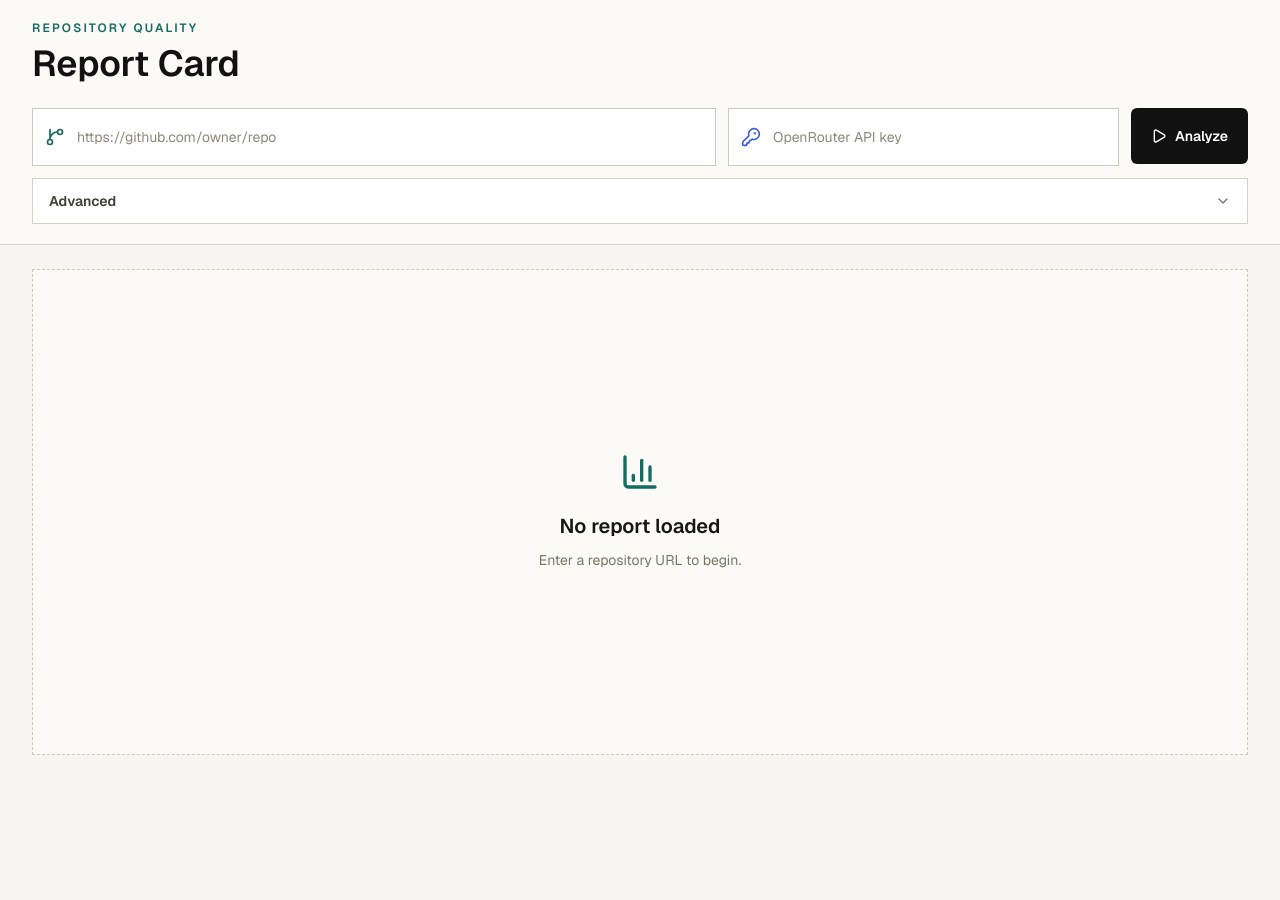
AnalyzeRepositoryPanel › submits the red-style request and persists the URL and model without the API key
The width and height of the screenshot is (1280, 900).
Type "https://github.com/lightstrikelabs/repo-analyzer-green" into the field named "GitHub repository URL" at [390, 137], box [77,117,703,157]
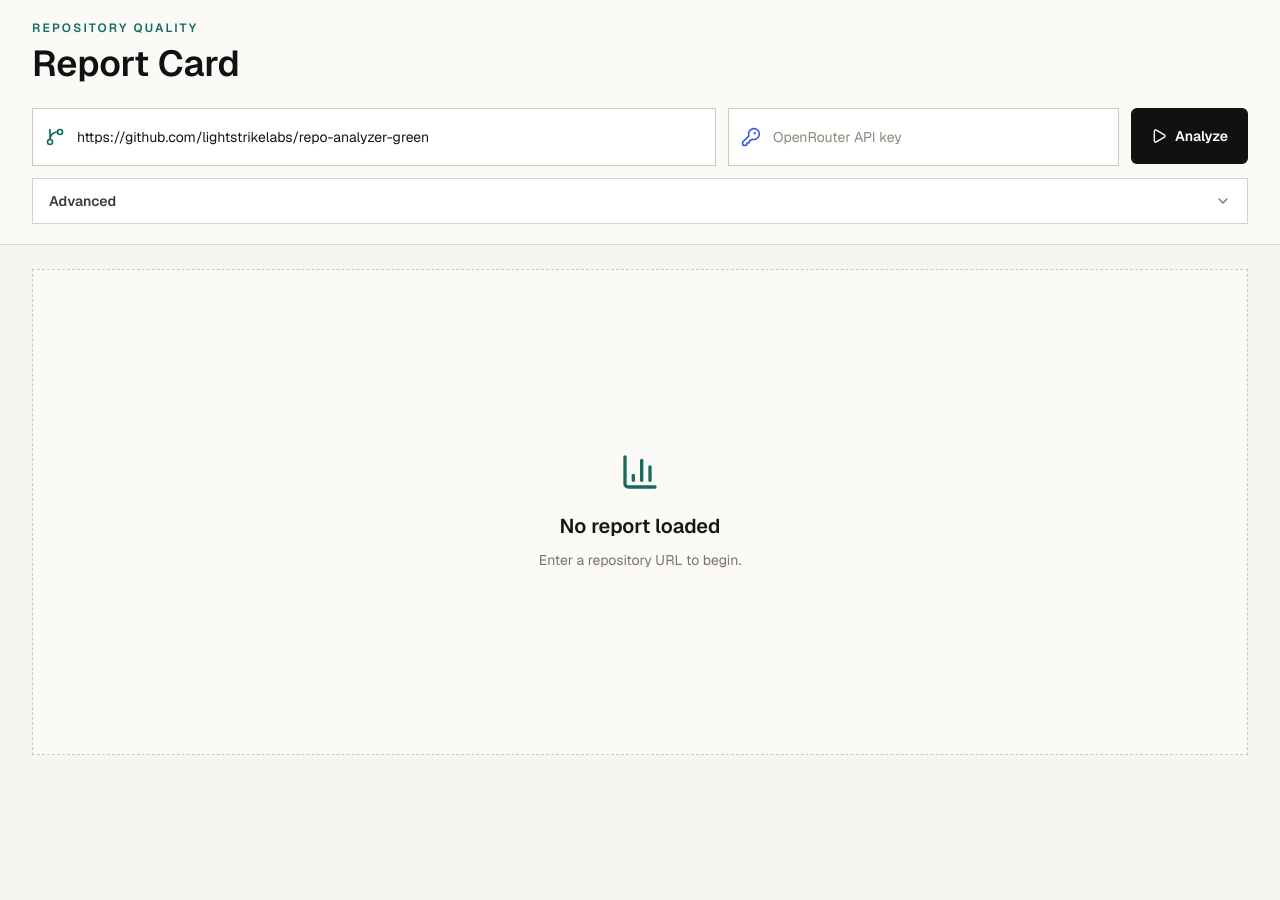
Type "sk-test" into the password field labelled "OpenRouter API key" at [940, 137], box [773,117,1106,157]
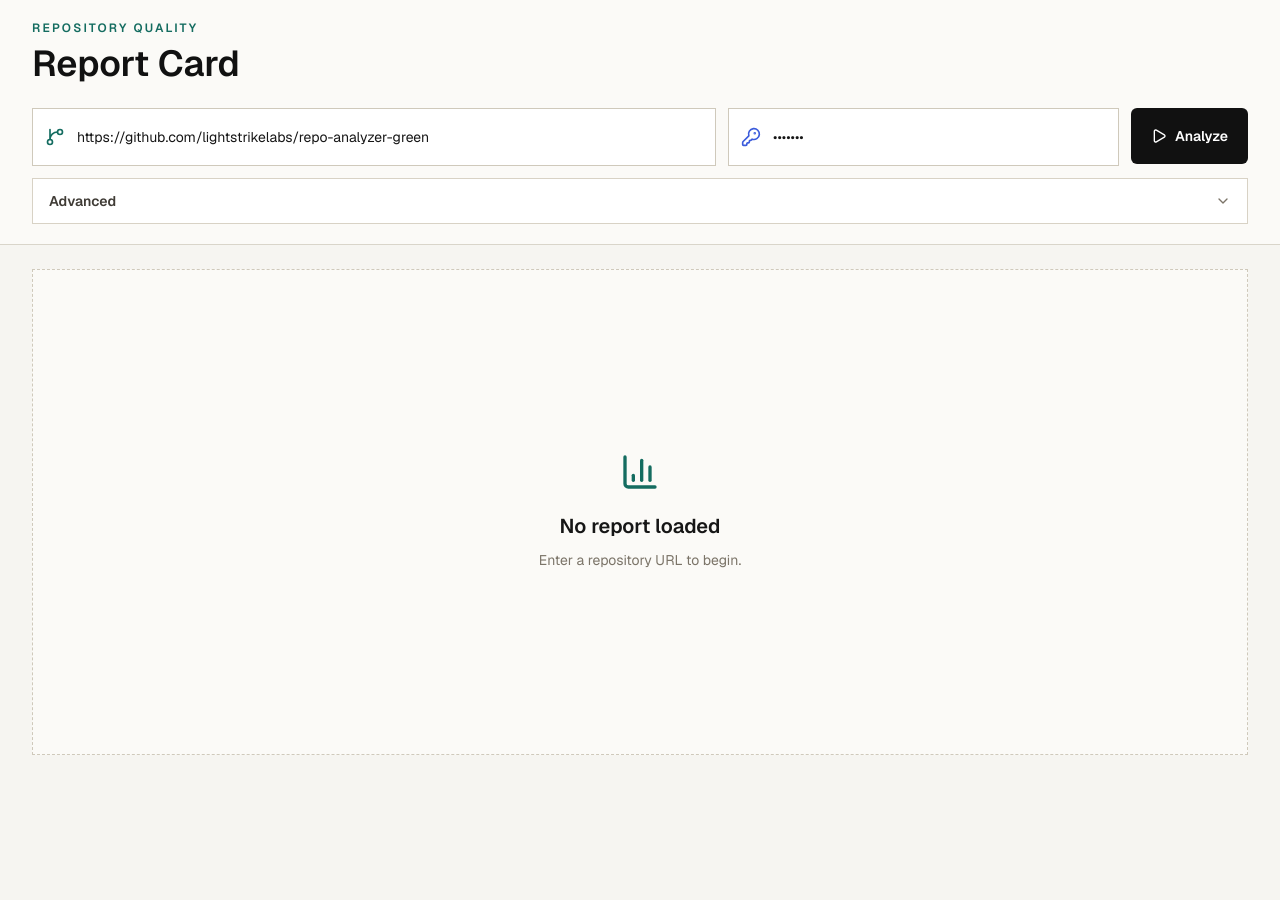
Click the heading "Advanced" at [83, 201], box [49,192,1231,210]
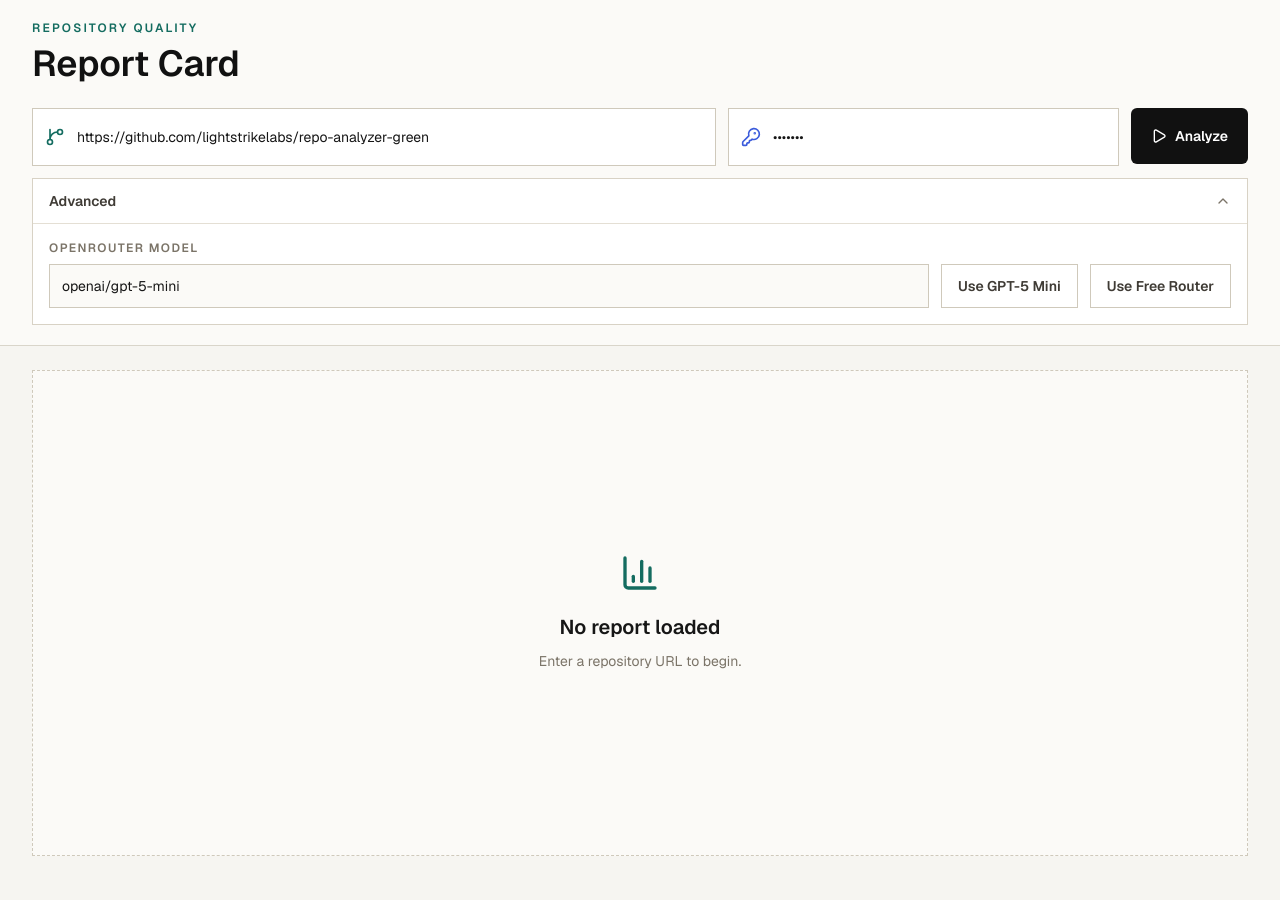
Type "openai/gpt-4.1-mini" into the field labelled "OpenRouter Model" at [489, 286], box [49,264,929,308]
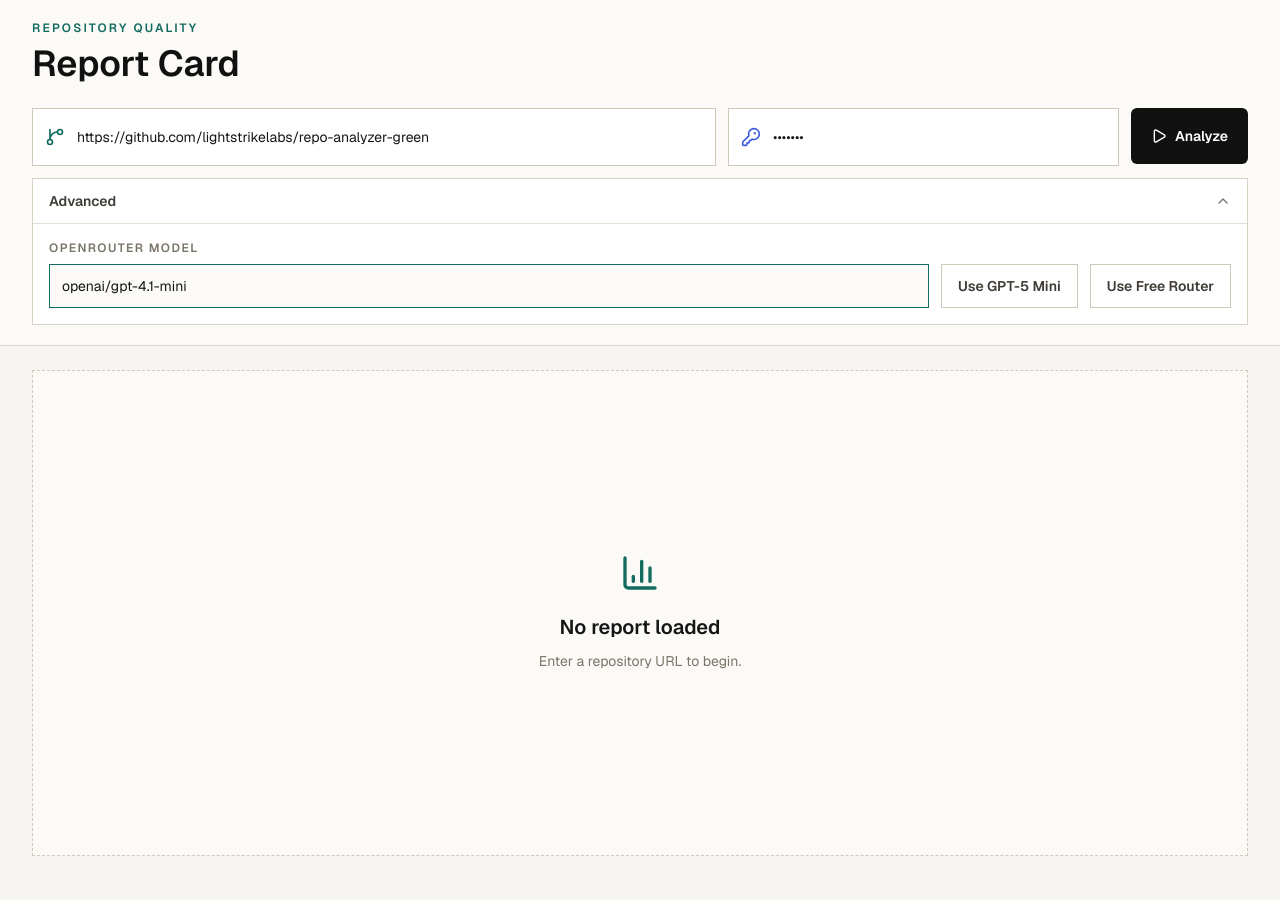
Click the button "Analyze" at [1190, 136], box [1131,108,1248,164]
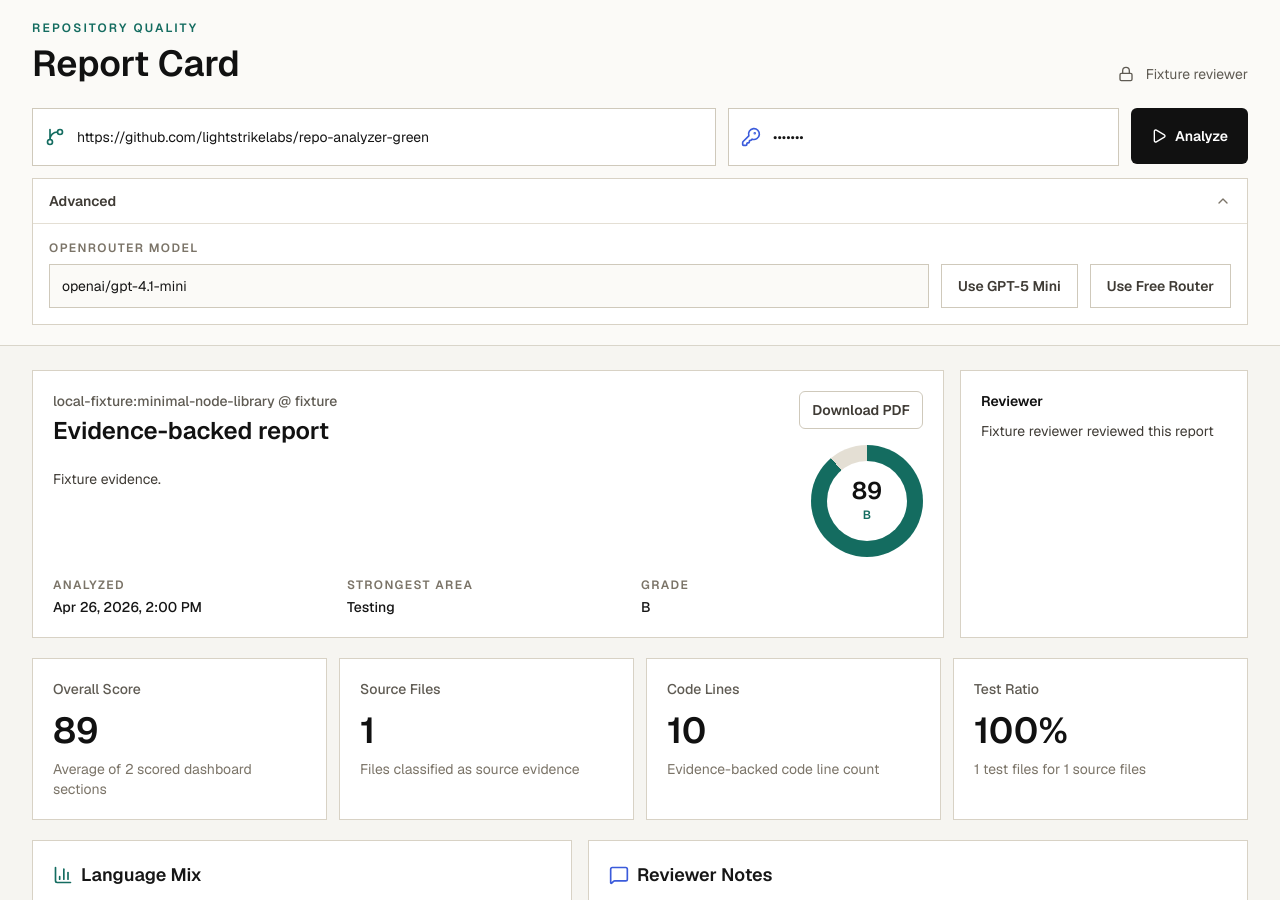
Expected: the heading "Evidence-backed report" is shown, [53,415,337,447]
